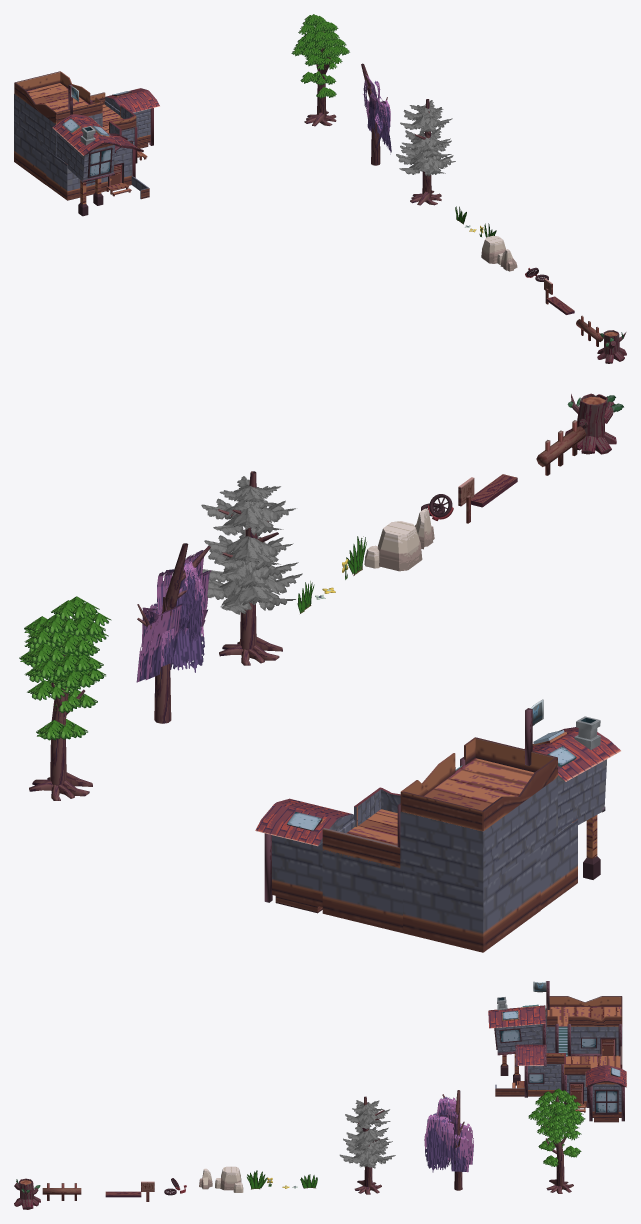
File: TocoDeArvore.fbx
3 views of the same model, one above another, from view 1: azimuth 30°, elevation 25°; view 2: azimuth 150°, elevation 25°; view 3: azimuth 270°, elevation 25° (orthographic). The views are drawn at different scales.
Visible parts, largest first — view 1: Casa da família Leth, Pinheiro.001, Folhas, MellowTree, TocoDeArvore, ArvoreDeFolhasPequenas, Pinheiro, Pedra1; view 2: Casa da família Leth, Pinheiro.001, MellowTree, Folhas, Pedra1, TocoDeArvore, ArvoreDeFolhasPequenas, Pinheiro, Cerca2; view 3: Casa da família Leth, MellowTree, Folhas, Pinheiro.001, ArvoreDeFolhasPequenas, TocoDeArvore, Pedra1, Pinheiro, Cerca2.
Part boxes in pixels (x1=…): Casa da família Leth: x1=14, y1=71, x2=159, y2=216; Pinheiro.001: x1=396, y1=100, x2=455, y2=176; Folhas: x1=291, y1=14, x2=349, y2=98; MellowTree: x1=361, y1=63, x2=391, y2=165; TocoDeArvore: x1=597, y1=330, x2=626, y2=363; ArvoreDeFolhasPequenas: x1=304, y1=31, x2=336, y2=126; Pinheiro: x1=410, y1=99, x2=441, y2=205; Pedra1: x1=481, y1=235, x2=505, y2=264; Casa da família Leth: x1=255, y1=699, x2=620, y2=952; Pinheiro.001: x1=201, y1=476, x2=302, y2=614; MellowTree: x1=136, y1=543, x2=211, y2=723; Folhas: x1=19, y1=596, x2=111, y2=740; Pedra1: x1=364, y1=521, x2=422, y2=571; TocoDeArvore: x1=565, y1=393, x2=623, y2=454; ArvoreDeFolhasPequenas: x1=29, y1=616, x2=92, y2=800; Pinheiro: x1=219, y1=471, x2=282, y2=665; Cerca2: x1=536, y1=420, x2=586, y2=475; Casa da família Leth: x1=488, y1=981, x2=626, y2=1122; MellowTree: x1=424, y1=1090, x2=473, y2=1190; Folhas: x1=528, y1=1088, x2=585, y2=1166; Pinheiro.001: x1=339, y1=1100, x2=395, y2=1168; ArvoreDeFolhasPequenas: x1=544, y1=1096, x2=573, y2=1193; TocoDeArvore: x1=14, y1=1178, x2=40, y2=1209; Pedra1: x1=215, y1=1166, x2=243, y2=1192; Pinheiro: x1=354, y1=1096, x2=381, y2=1194; Cerca2: x1=42, y1=1183, x2=81, y2=1200.
Bounding box in the file's own units: 3012 × 5799 × 1201.
